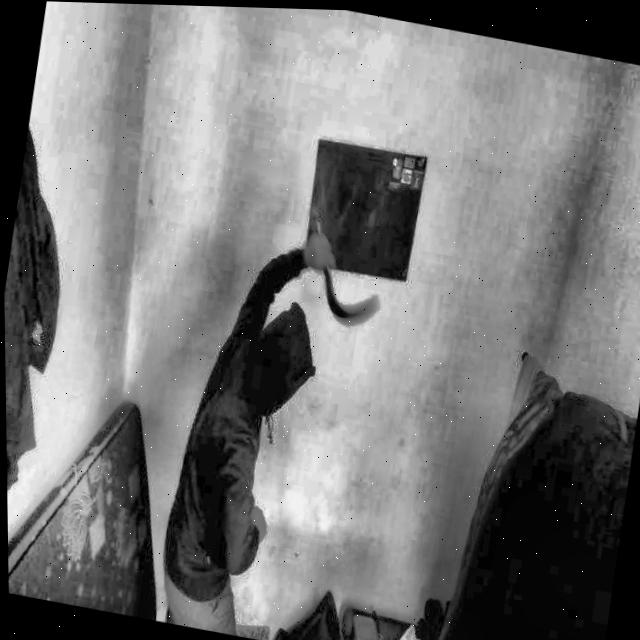robbery: (157, 204, 404, 639)
